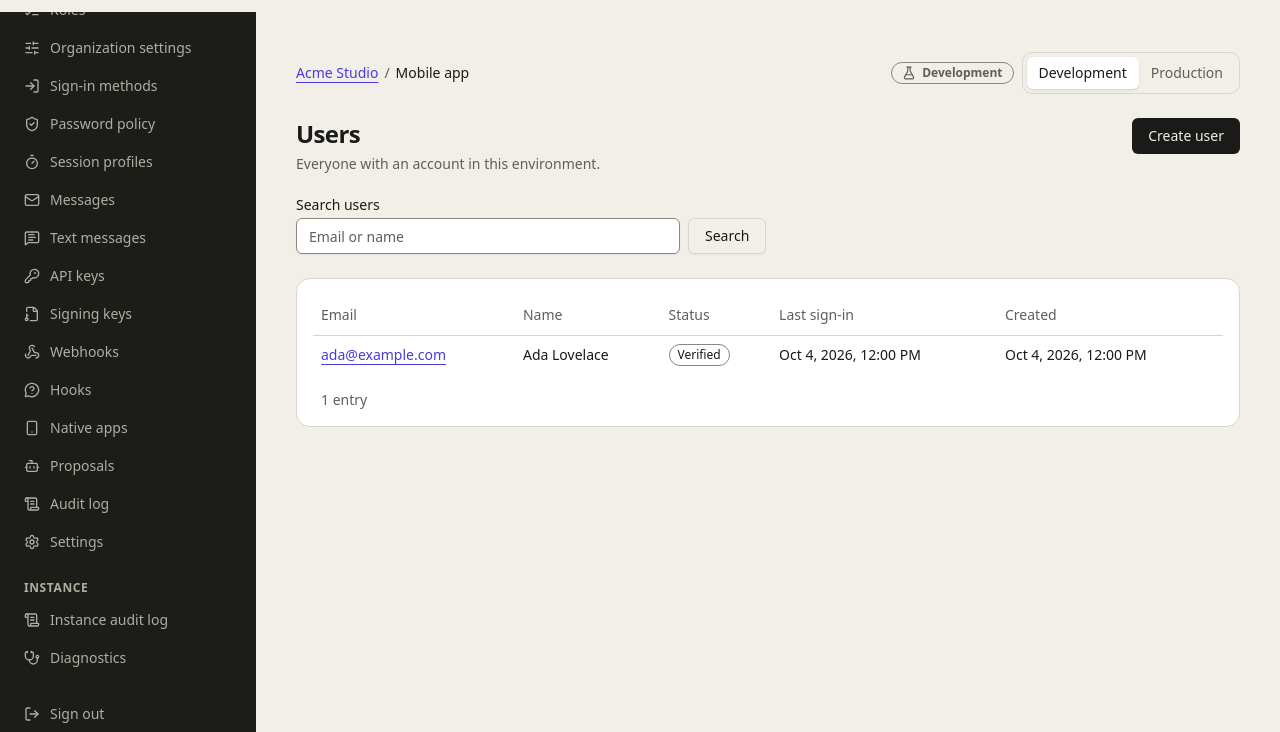
Test: session › sign-out ends the session and leaves no destination behind
(page scrolled)
Click the button "Sign out".
click(128, 714)  # box [12,696,244,731]
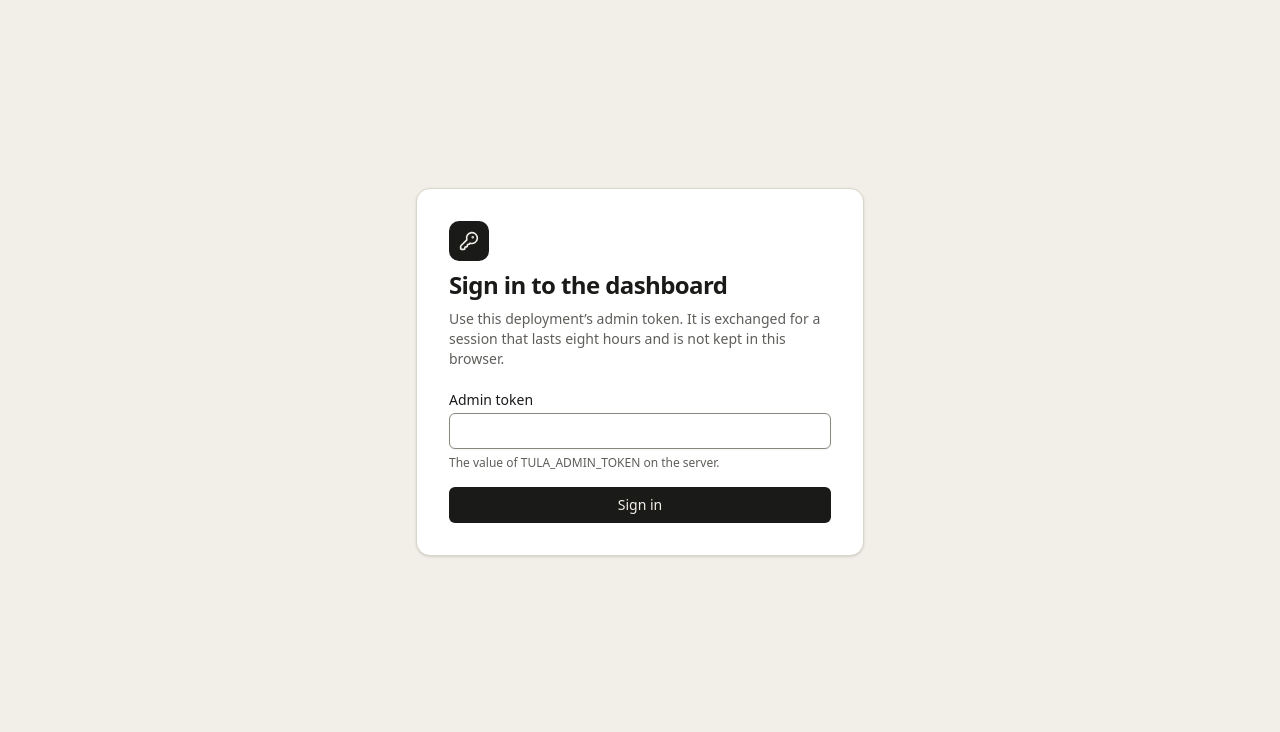
expect the password field labelled "Admin token" is shown: met, box [449,413,831,449]
